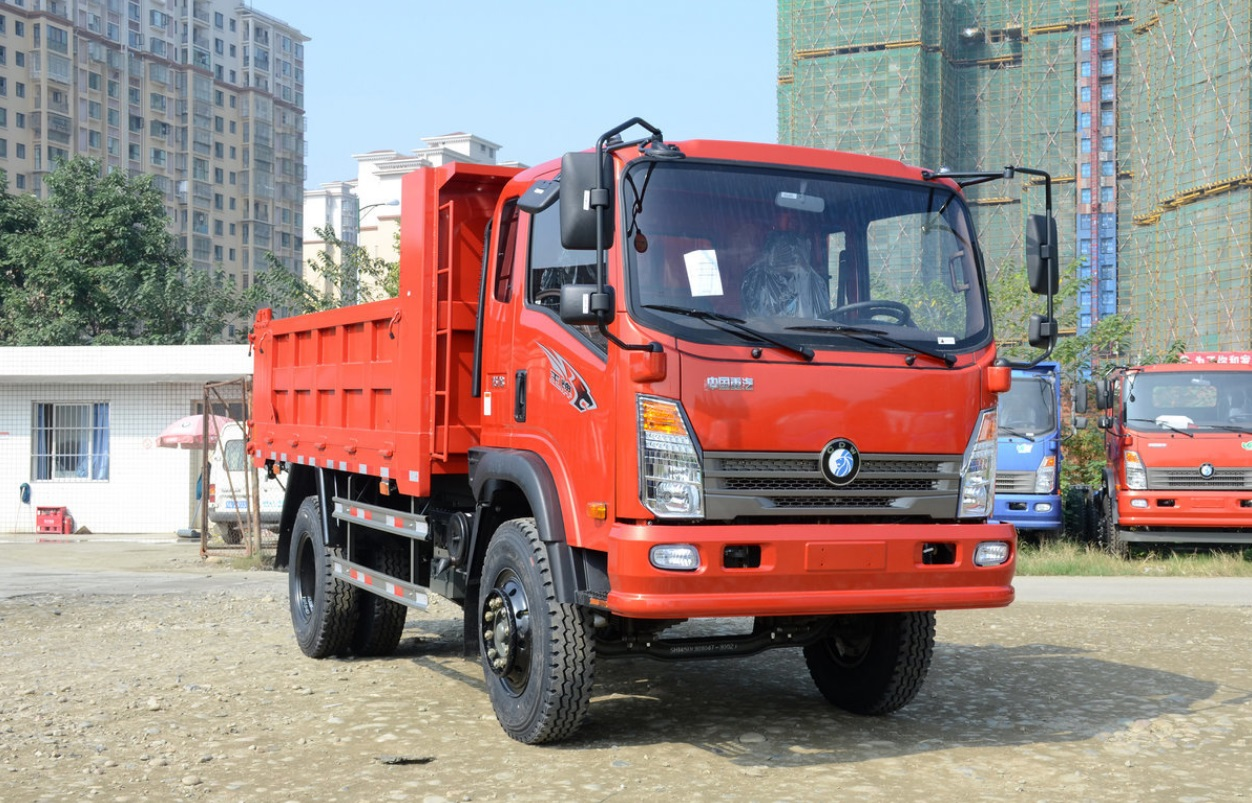truck: (240, 117, 1077, 755)
